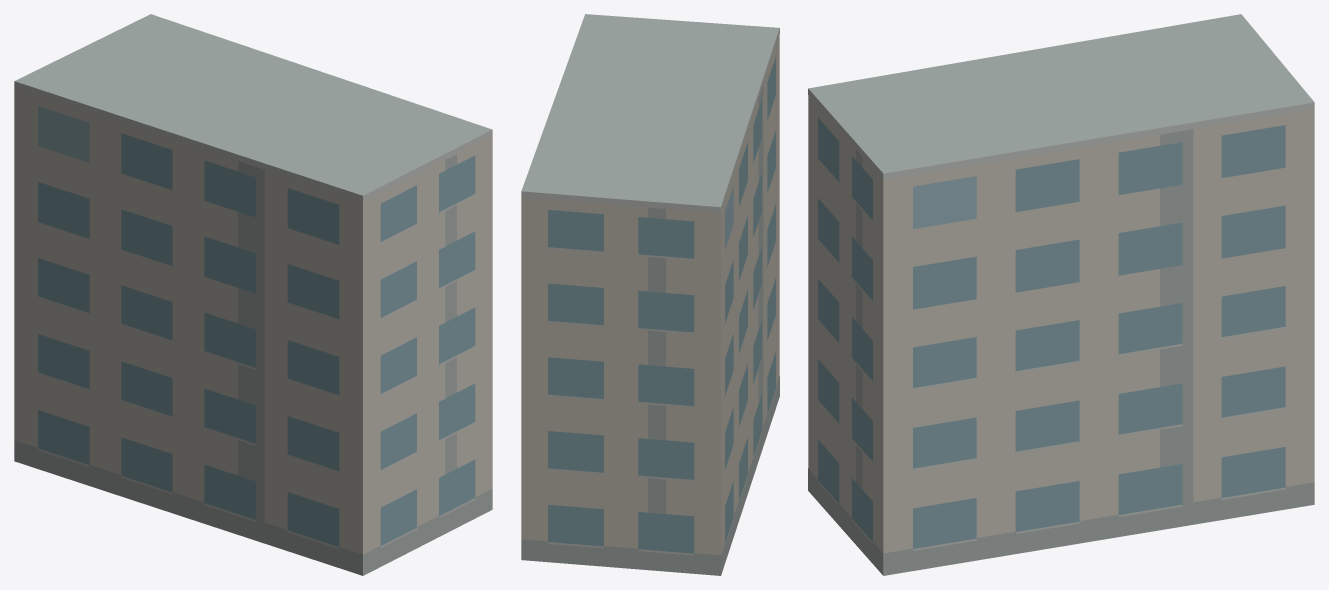
The model's file is survey-upis-32760038.glb.
3 views of the same model, side by side, from view 1: azimuth 30°, elevation 25°; view 2: azimuth 150°, elevation 25°; view 3: azimuth 270°, elevation 25° (orthographic). The views are drawn at different scales.
Parts seen in each view (by area): view 1: survey-upis-32760038.tmp; view 2: survey-upis-32760038.tmp; view 3: survey-upis-32760038.tmp.
Boxes of the visible parts, bbox=[...] form: survey-upis-32760038.tmp: bbox=[14, 14, 492, 575]; survey-upis-32760038.tmp: bbox=[521, 14, 779, 575]; survey-upis-32760038.tmp: bbox=[808, 14, 1314, 575].
Bounding box in the file's own units: 12.65 × 14.85 × 16.96.
